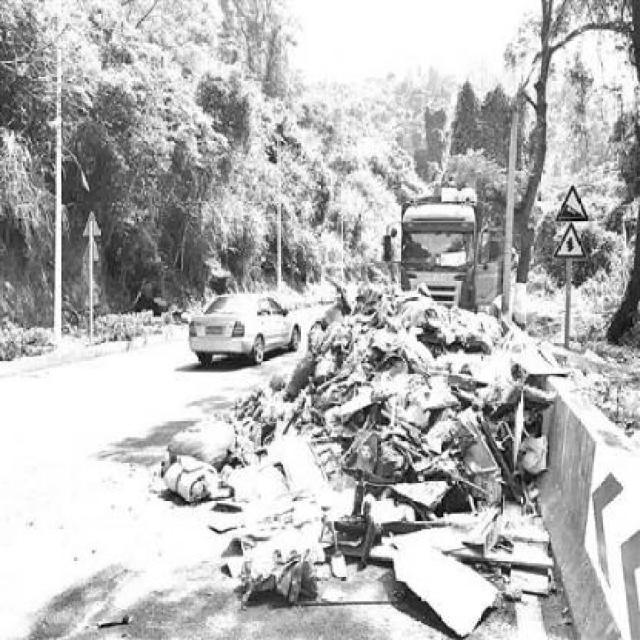garbage: (292, 296, 553, 636), (174, 374, 290, 610)
